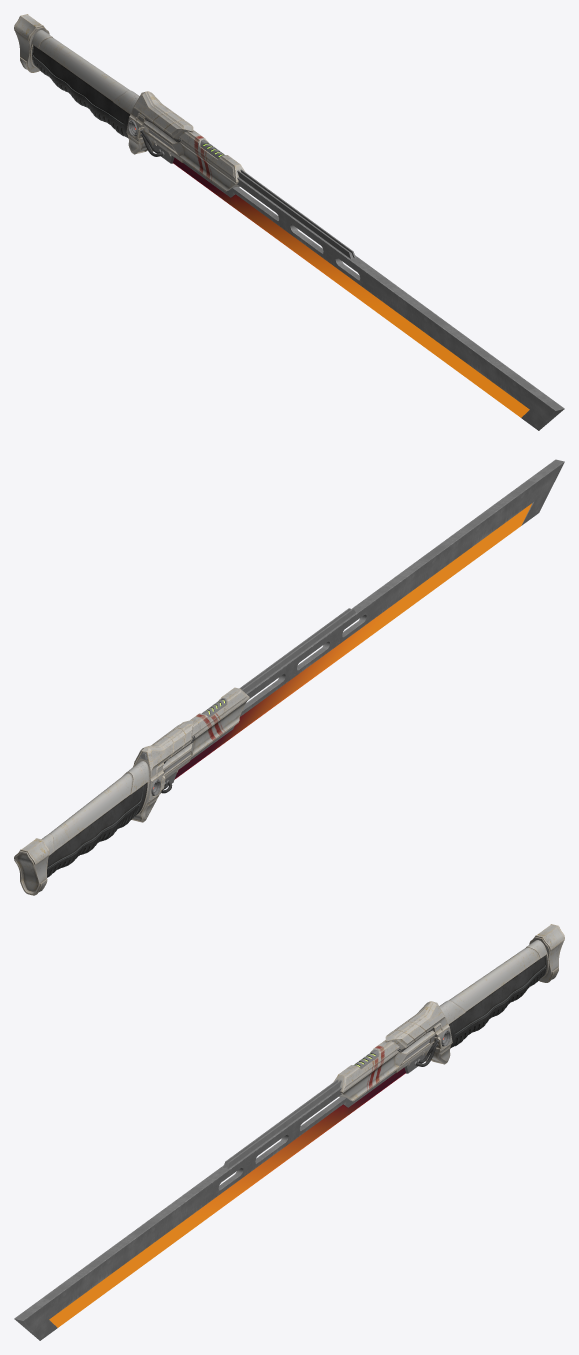
The model's file is sci-fi_sword.glb.
3 renders of one model, top to bottom at view 1: azimuth 30°, elevation 25°; view 2: azimuth 150°, elevation 25°; view 3: azimuth 330°, elevation 25°, orthographic.
Visible parts, largest first — view 1: LP_stiffener.001_blade_2048x4096_0, LP_stiffener_handle4096x4096_0; view 2: LP_stiffener.001_blade_2048x4096_0, LP_stiffener_handle4096x4096_0; view 3: LP_stiffener.001_blade_2048x4096_0, LP_stiffener_handle4096x4096_0.
Boxes of the visible parts, x1=… form: LP_stiffener.001_blade_2048x4096_0: x1=173, y1=157, x2=564, y2=430; LP_stiffener_handle4096x4096_0: x1=14, y1=14, x2=355, y2=258; LP_stiffener.001_blade_2048x4096_0: x1=174, y1=459, x2=564, y2=779; LP_stiffener_handle4096x4096_0: x1=14, y1=608, x2=355, y2=895; LP_stiffener.001_blade_2048x4096_0: x1=14, y1=1067, x2=405, y2=1340; LP_stiffener_handle4096x4096_0: x1=223, y1=924, x2=564, y2=1168.
Bounding box in the file's own units: 4.51 × 10.88 × 158.
Materials: 2 (2 with a texture image).
